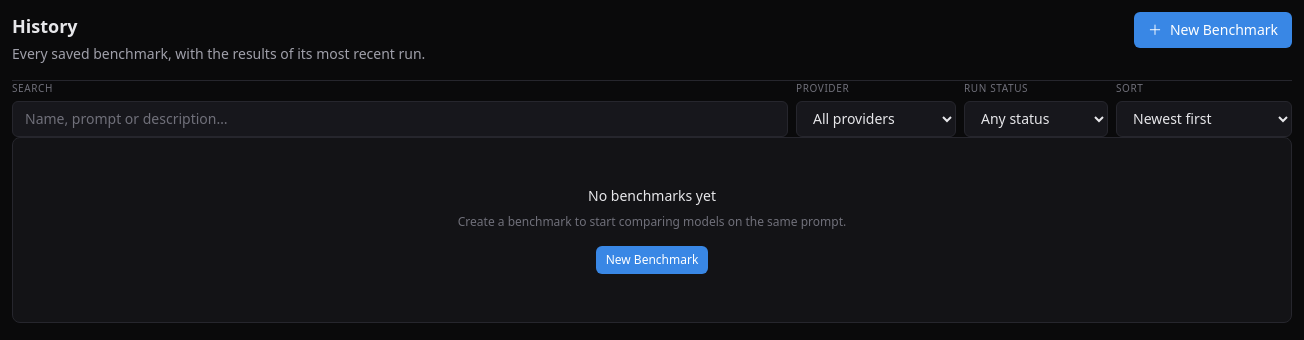
Scenario: History page › passes the search term to the API and reports when filters match nothing
In the search field labelled "Search": (400, 118) [12, 100, 788, 136], type "quicksort"
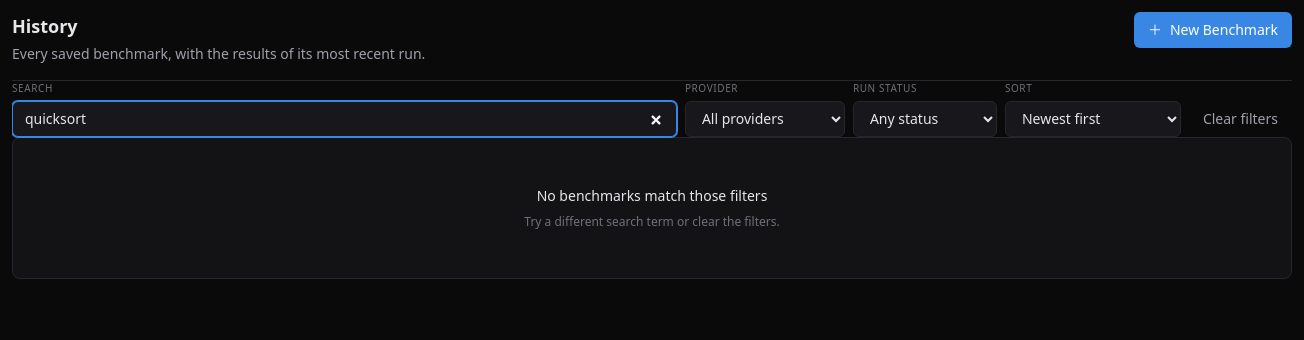
Result: the text "No benchmarks match those filters" is shown at [537, 186, 767, 206]
